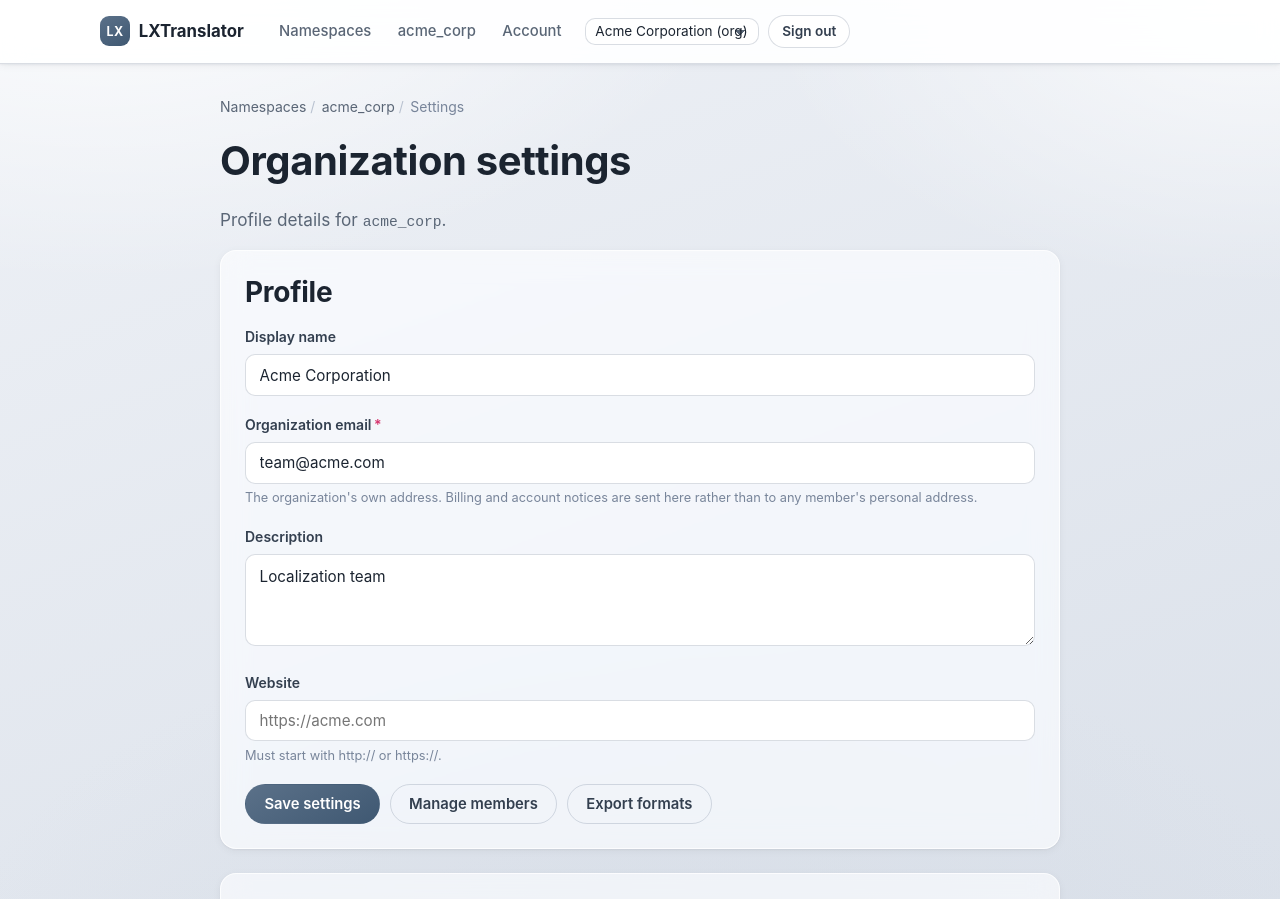
organization settings and deletion › rejects a malformed contact address before sending it
The width and height of the screenshot is (1280, 899).
Check: the heading "Organization settings" is shown, box x1=220 y1=136 x2=631 y2=185
Type "bad-address" into the field labelled "Organization email*".
click(640, 463); type("bad-address")  # box x1=245 y1=442 x2=1035 y2=484
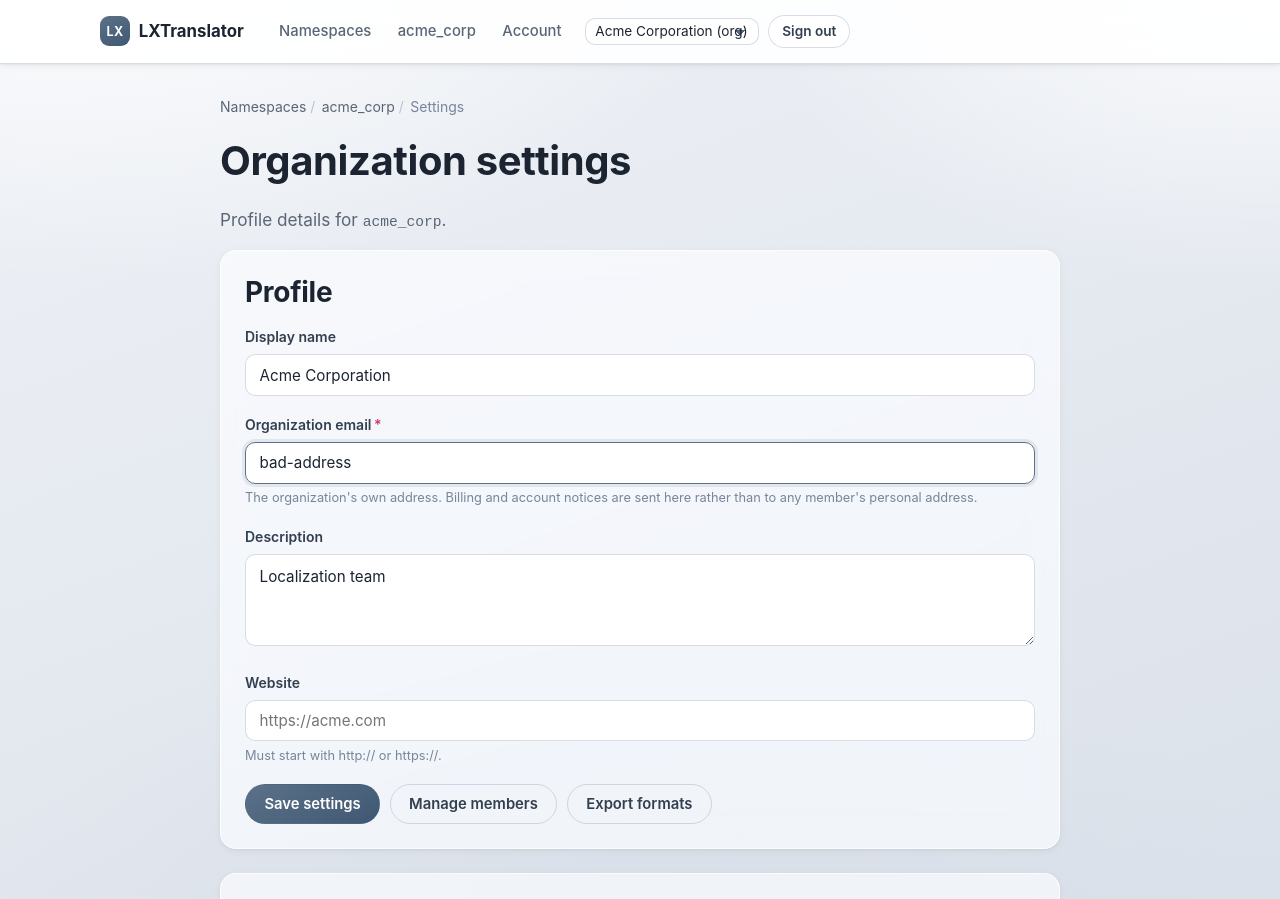
Click the button "Save settings".
click(313, 804)  # box x1=245 y1=784 x2=380 y2=824
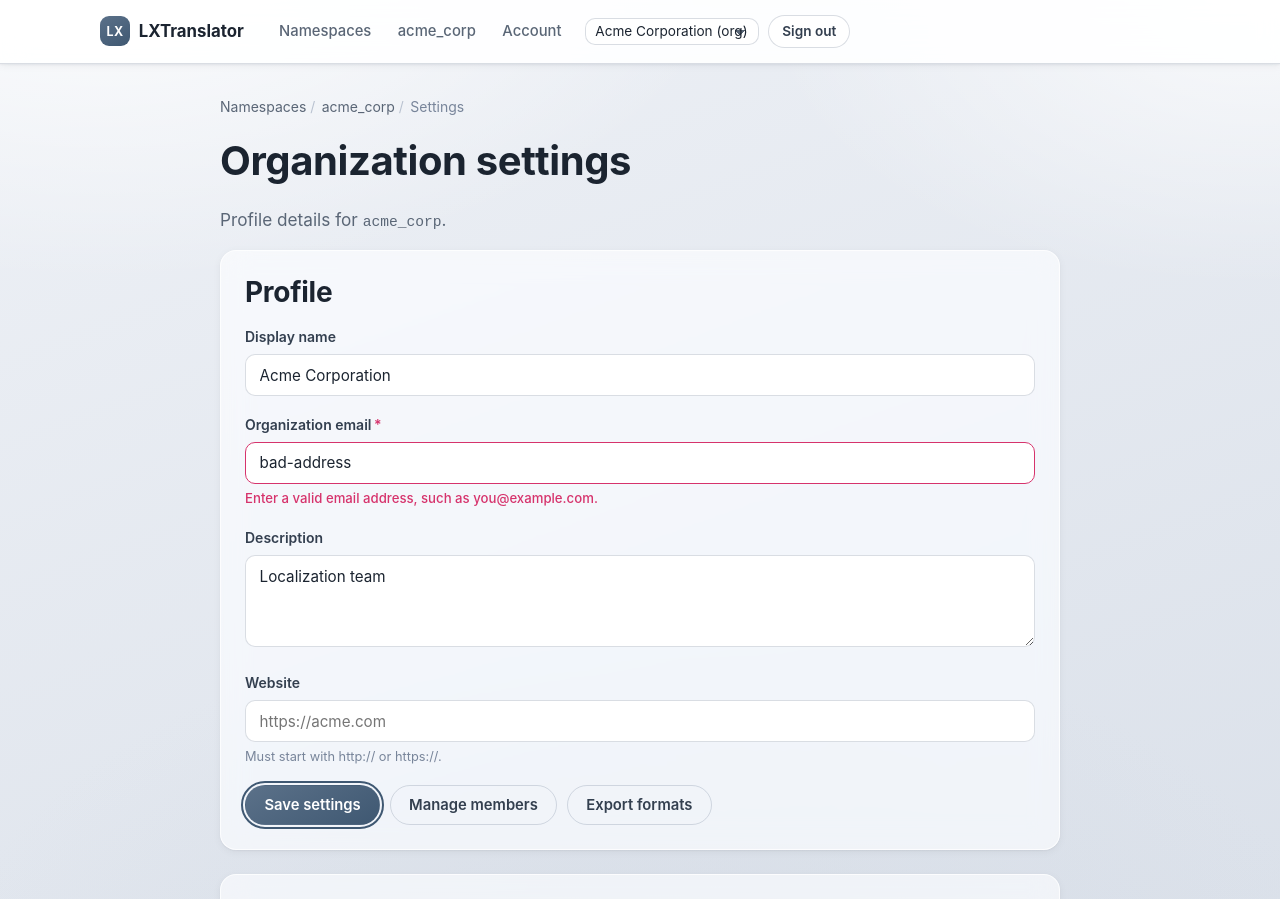
Check: the text "Enter a valid email address, such as you@example.com." is shown, box x1=245 y1=490 x2=598 y2=506
